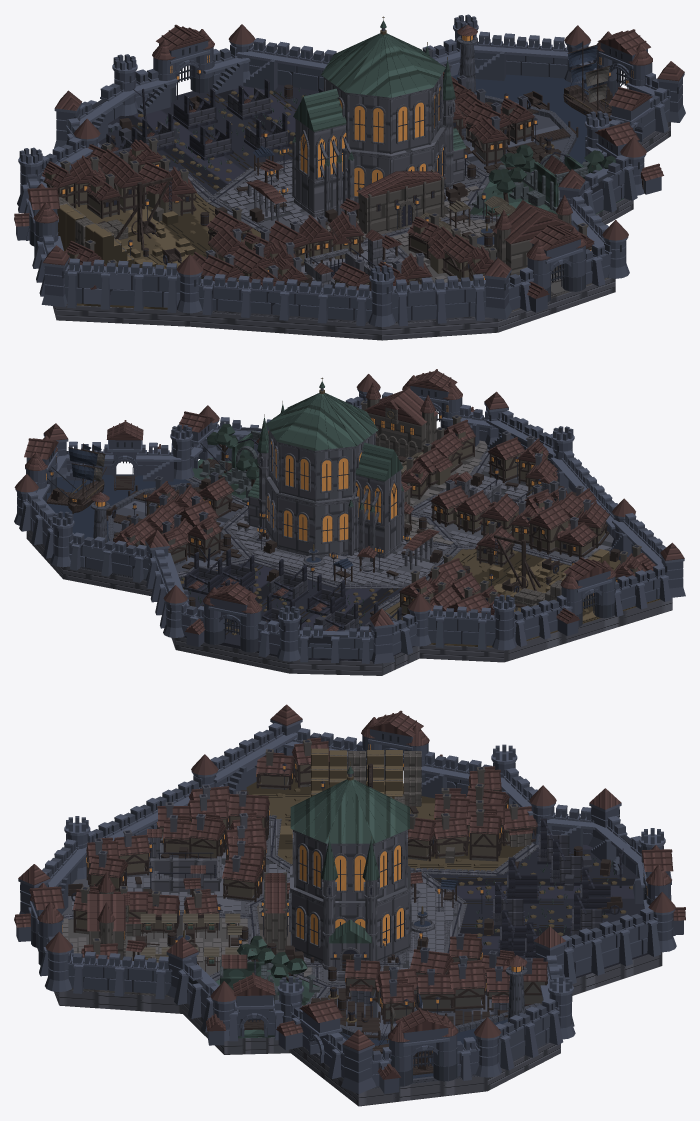
Rendered from CityMap_v5.fbx.
The picture shows the model from 3 angles, top to bottom: view 1: azimuth 30°, elevation 25°; view 2: azimuth 150°, elevation 25°; view 3: azimuth 270°, elevation 25°; orthographic projection. The views are drawn at different scales.
Parts seen in each view (by area): view 1: curtain_walls_crenellations, city_rock_foundation, cathedral_octagonal_palatine_chapel, district_04_ground, cathedral_gothic_choir_buttresses, ruins_burnt_houses_broken_beams, cathedral_octagonal_copper_roof, v4_gate_masonry_depth, treasury_fortified_gallery, district_03_ground, market_town_hall, quarry_terraced_rock_cut (+61 smaller); view 2: curtain_walls_crenellations, cathedral_octagonal_palatine_chapel, city_rock_foundation, ruins_burnt_houses_broken_beams, cathedral_gothic_choir_buttresses, cathedral_octagonal_copper_roof, v4_gate_masonry_depth, market_town_hall, district_04_ground, v5_district_08_surface_relief, district_03_ground, river_broad_water (+58 smaller); view 3: curtain_walls_crenellations, cathedral_octagonal_palatine_chapel, city_rock_foundation, ruins_burnt_houses_broken_beams, district_04_ground, cathedral_octagonal_copper_roof, quarry_terraced_rock_cut, v4_gate_masonry_depth, district_03_ground, underground_stairwell_and_iron_grille, market_town_hall, v5_gatehouse_west (+60 smaller).
Part boxes in pixels (left/top/right/bottom): curtain_walls_crenellations: left=17, top=14, right=685, bottom=327; city_rock_foundation: left=53, top=122, right=670, bottom=340; cathedral_octagonal_palatine_chapel: left=323, top=73, right=446, bottom=211; district_04_ground: left=98, top=84, right=318, bottom=195; cathedral_gothic_choir_buttresses: left=292, top=88, right=354, bottom=220; ruins_burnt_houses_broken_beams: left=98, top=79, right=323, bottom=160; cathedral_octagonal_copper_roof: left=321, top=16, right=445, bottom=97; v4_gate_masonry_depth: left=29, top=47, right=652, bottom=301; treasury_fortified_gallery: left=357, top=169, right=445, bottom=233; district_03_ground: left=64, top=193, right=260, bottom=309; market_town_hall: left=492, top=195, right=575, bottom=275; quarry_terraced_rock_cut: left=57, top=197, right=195, bottom=268; curtain_walls_crenellations: left=14, top=374, right=685, bottom=664; cathedral_octagonal_palatine_chapel: left=265, top=429, right=375, bottom=557; city_rock_foundation: left=26, top=530, right=672, bottom=675; ruins_burnt_houses_broken_beams: left=183, top=549, right=401, bottom=631; cathedral_gothic_choir_buttresses: left=348, top=442, right=404, bottom=561; cathedral_octagonal_copper_roof: left=266, top=377, right=378, bottom=450; v4_gate_masonry_depth: left=26, top=397, right=615, bottom=652; market_town_hall: left=364, top=381, right=438, bottom=457; district_04_ground: left=179, top=562, right=415, bottom=661; v5_district_08_surface_relief: left=229, top=520, right=447, bottom=584; district_03_ground: left=384, top=548, right=660, bottom=647; river_broad_water: left=47, top=475, right=190, bottom=541; curtain_walls_crenellations: left=18, top=704, right=676, bottom=1094; cathedral_octagonal_palatine_chapel: left=289, top=829, right=411, bottom=963; city_rock_foundation: left=37, top=948, right=662, bottom=1106; ruins_burnt_houses_broken_beams: left=491, top=818, right=612, bottom=959; district_04_ground: left=428, top=844, right=648, bottom=978; cathedral_octagonal_copper_roof: left=290, top=761, right=409, bottom=843; quarry_terraced_rock_cut: left=311, top=748, right=421, bottom=806; v4_gate_masonry_depth: left=31, top=735, right=671, bottom=1086; district_03_ground: left=246, top=774, right=526, bottom=871; underground_stairwell_and_iron_grille: left=147, top=829, right=248, bottom=891; market_town_hall: left=87, top=872, right=129, bottom=959; v5_gatehouse_west: left=377, top=1007, right=450, bottom=1093.
Size of what is drawn, in the model's own units: 62.9 by 17.83 by 52.41.
Materials: 59 (49 with a texture image).
